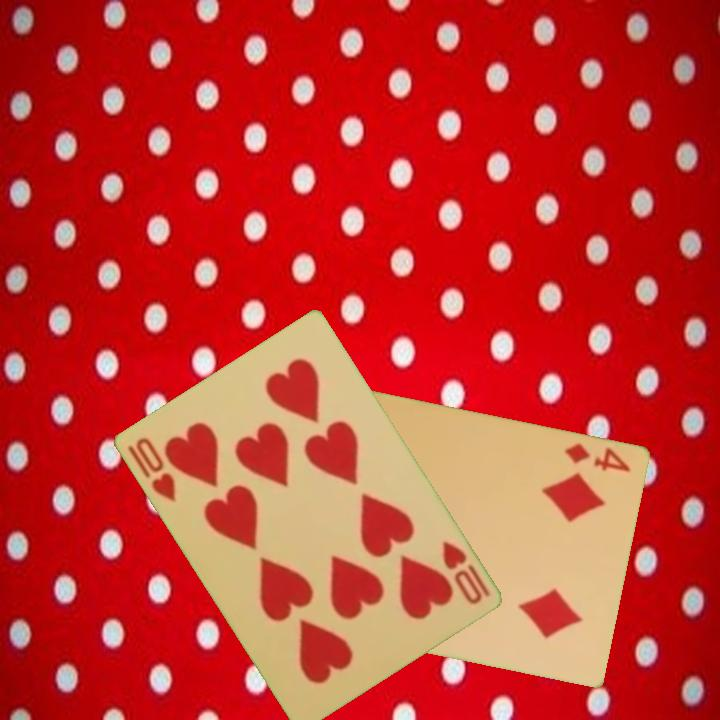10h: (123, 433, 179, 506), (438, 537, 493, 608)
4d: (561, 439, 634, 475)
